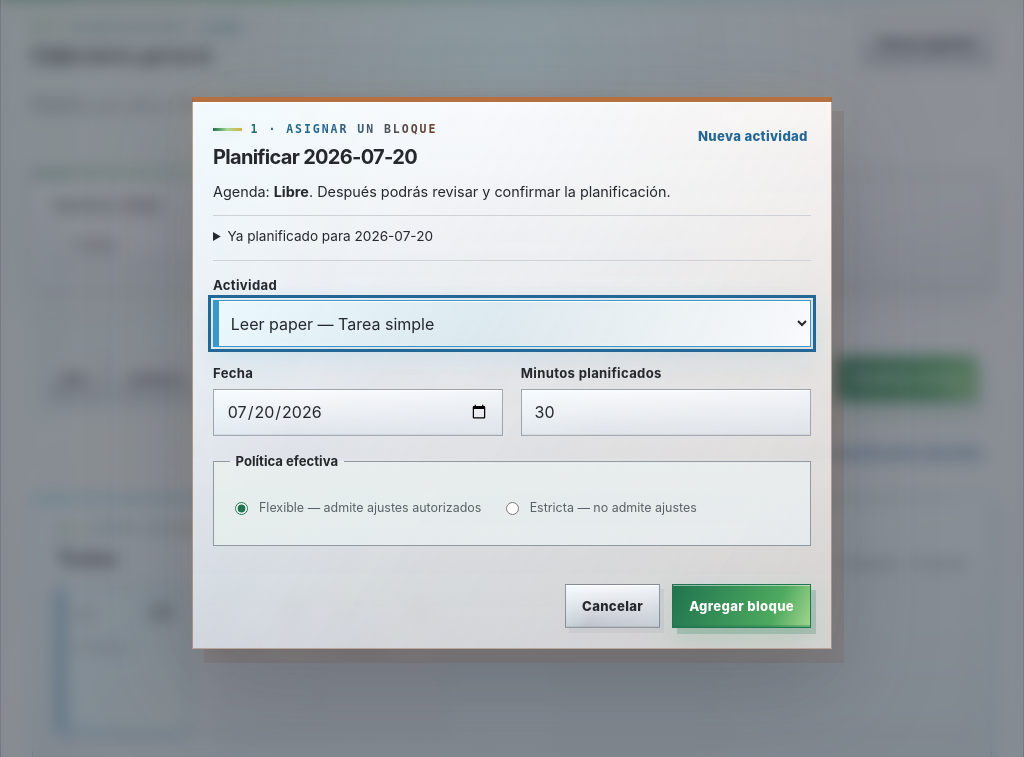
Test: asignables del calendario › consulta el detalle de otra fecha sin mover el mes y descarta el detalle anterior si falla
The width and height of the screenshot is (1024, 757).
Click the button "Cancelar" at (613, 606), box x1=565 y1=584 x2=660 y2=628
(page scrolled)
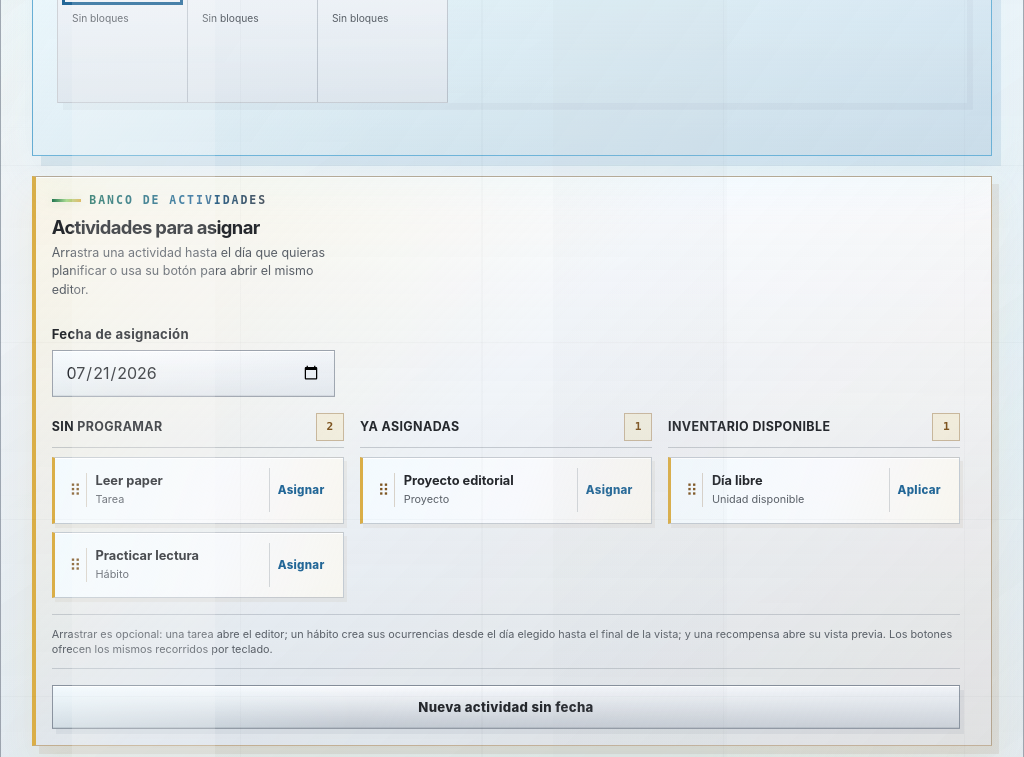
Type "2026-08-01" into the date field labelled "Fecha de asignación" at (193, 373), box x1=52 y1=350 x2=335 y2=396
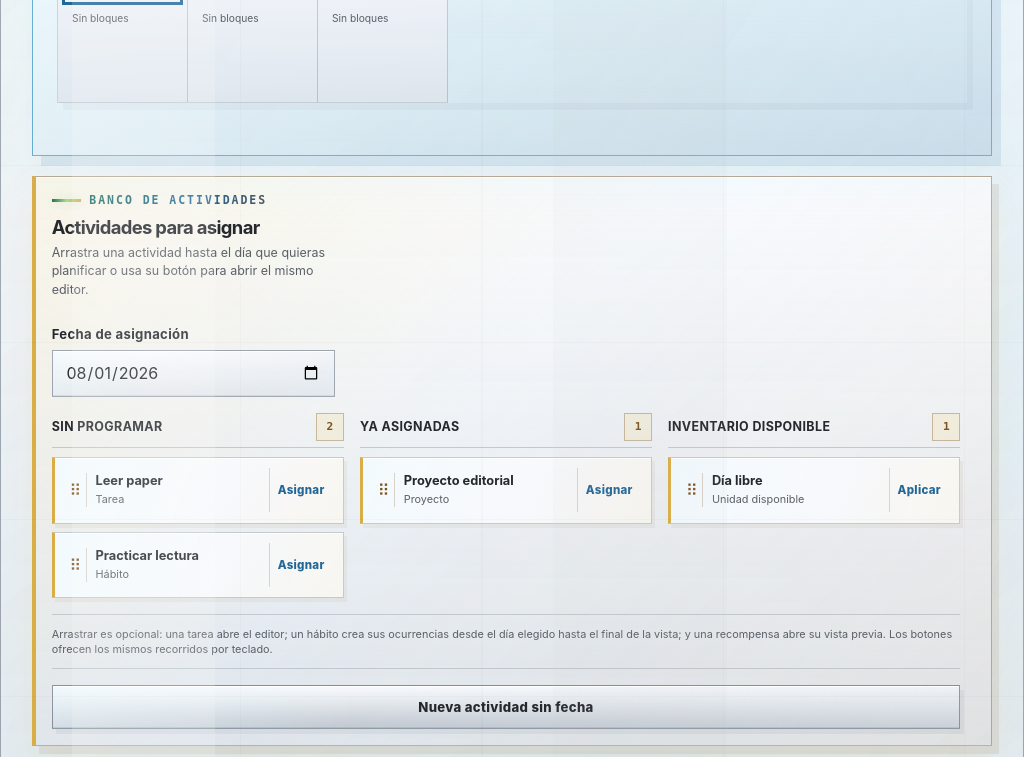
Click the button with aria-label "Asignar Leer paper" at (301, 490), box x1=269 y1=468 x2=332 y2=512
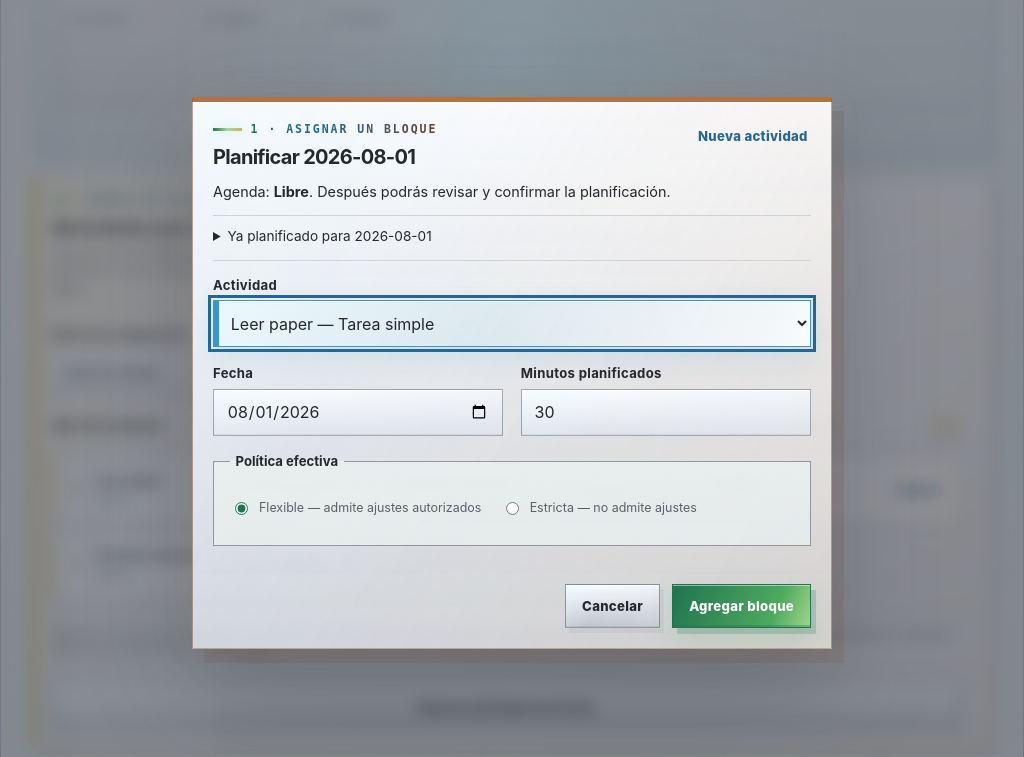
Click the heading "Ya planificado para 2026-08-01" at (330, 236), box x1=227 y1=228 x2=432 y2=244
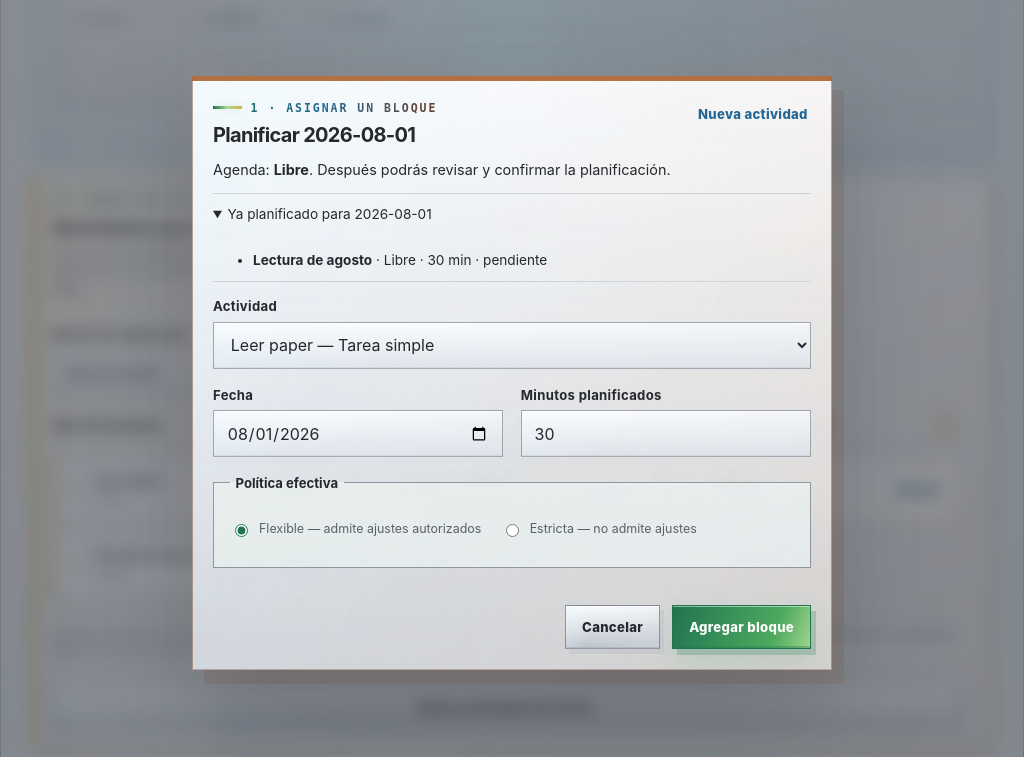
Expected: the text "Lectura de agosto" is shown, x1=253 y1=252 x2=372 y2=268
Type "2026-08-02" into the date field labelled "Fecha" at (358, 434), box x1=213 y1=410 x2=503 y2=457
(page scrolled)
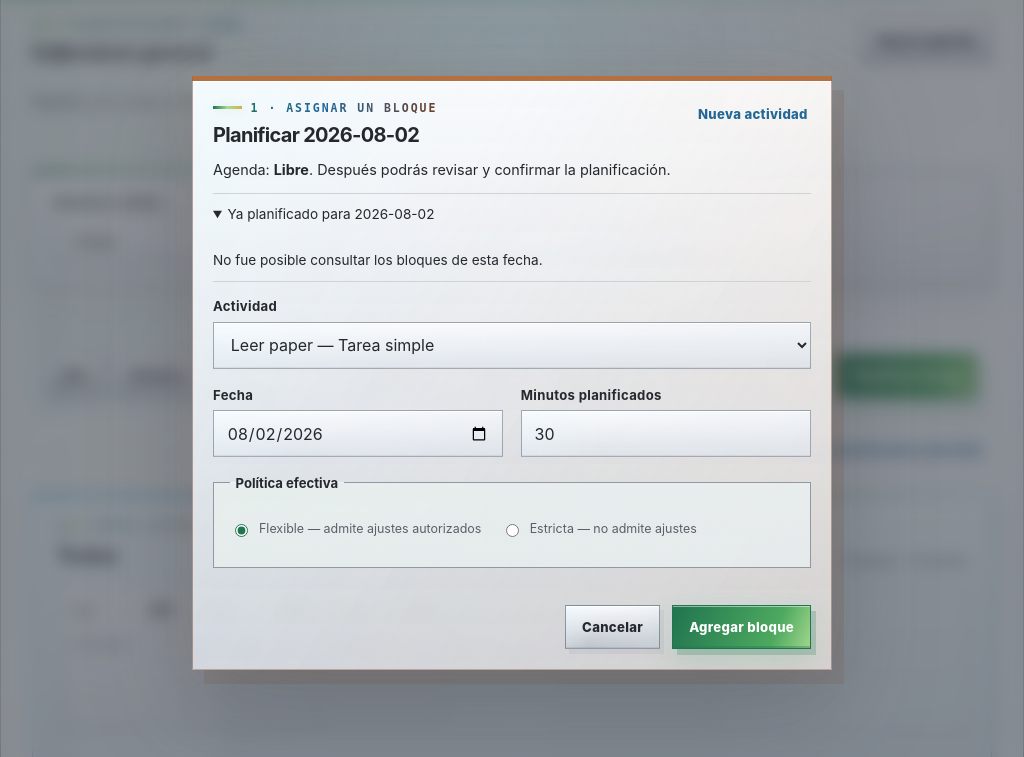
Expected: the dialog "Planificar 2026-08-02" is shown, x1=192 y1=76 x2=832 y2=670
Expected: the text "No fue posible consultar los bloques de esta fecha." is shown, x1=213 y1=252 x2=543 y2=268
Expected: the text "Lectura de agosto" is gone
